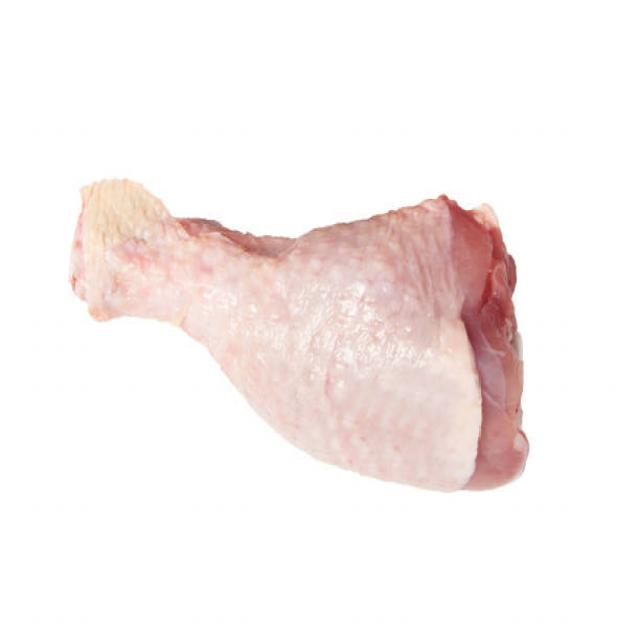Chicken: (65, 160, 538, 514)
